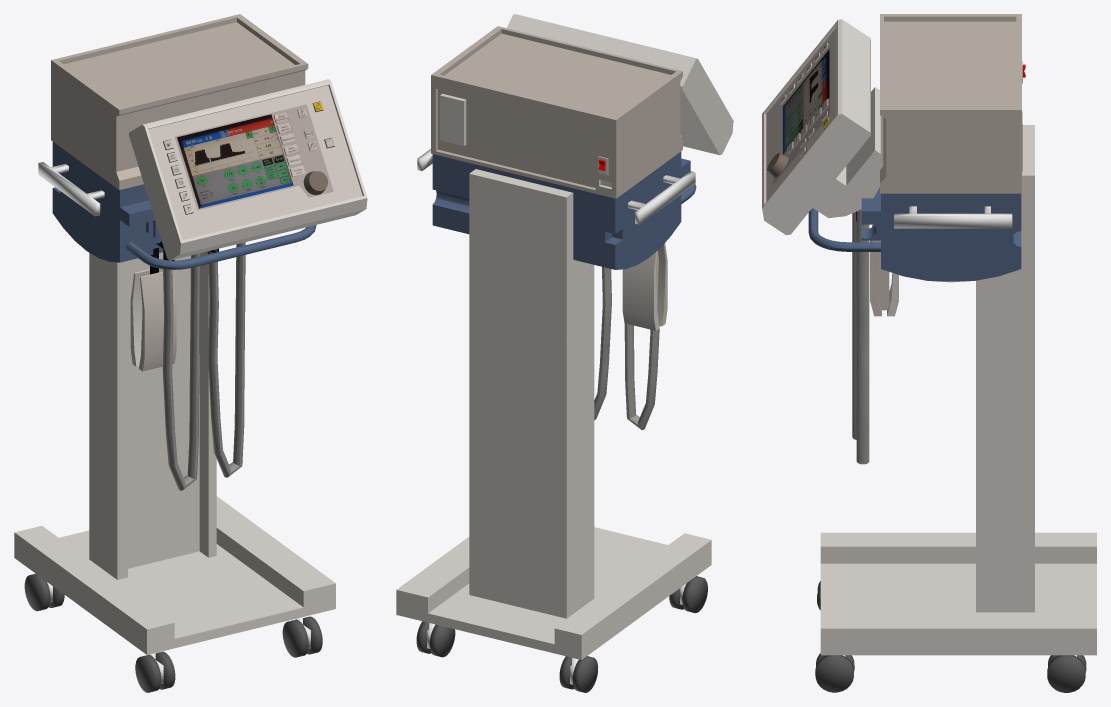
The model's file is Respiratory Cart.fbx.
The picture shows the model from 3 angles, left to right: view 1: azimuth 30°, elevation 25°; view 2: azimuth 150°, elevation 25°; view 3: azimuth 270°, elevation 25°; orthographic projection. The views are drawn at different scales.
Visible parts, largest first — view 1: 5-_Evita_diff, 1-_ClearPlasticShader, 4-_DarkRubberShader, 3-_SteelShader; view 2: 5-_Evita_diff, 1-_ClearPlasticShader, 4-_DarkRubberShader, 3-_SteelShader; view 3: 5-_Evita_diff, 1-_ClearPlasticShader, 4-_DarkRubberShader, 3-_SteelShader.
Boxes of the visible parts, x1,y1,x2,y2 form: 5-_Evita_diff: [14, 14, 367, 654]; 1-_ClearPlasticShader: [162, 242, 245, 490]; 4-_DarkRubberShader: [24, 573, 322, 692]; 3-_SteelShader: [38, 162, 310, 684]; 5-_Evita_diff: [396, 14, 733, 659]; 1-_ClearPlasticShader: [594, 267, 659, 429]; 4-_DarkRubberShader: [416, 576, 707, 692]; 3-_SteelShader: [417, 149, 695, 684]; 5-_Evita_diff: [762, 14, 1096, 655]; 1-_ClearPlasticShader: [852, 209, 869, 464]; 4-_DarkRubberShader: [815, 581, 1086, 692]; 3-_SteelShader: [843, 206, 1076, 656].
Bounding box in the file's own units: 8.86 × 21.29 × 10.93.
5 materials, 2 textured.
